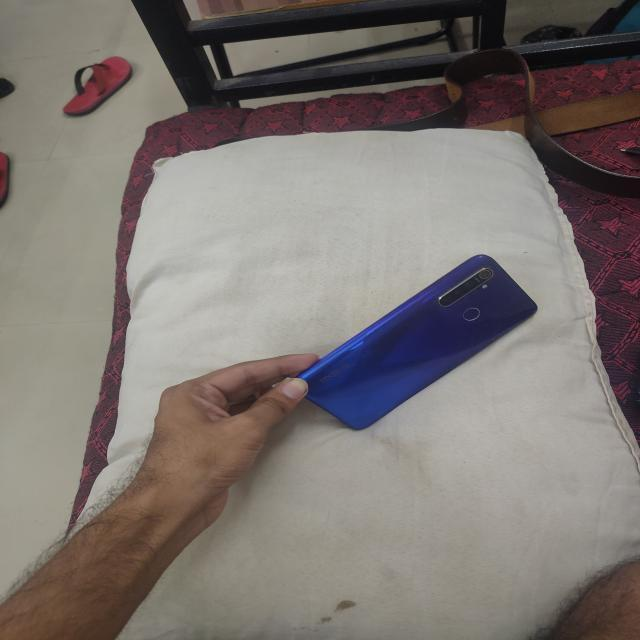Phone: (288, 250, 544, 438)
